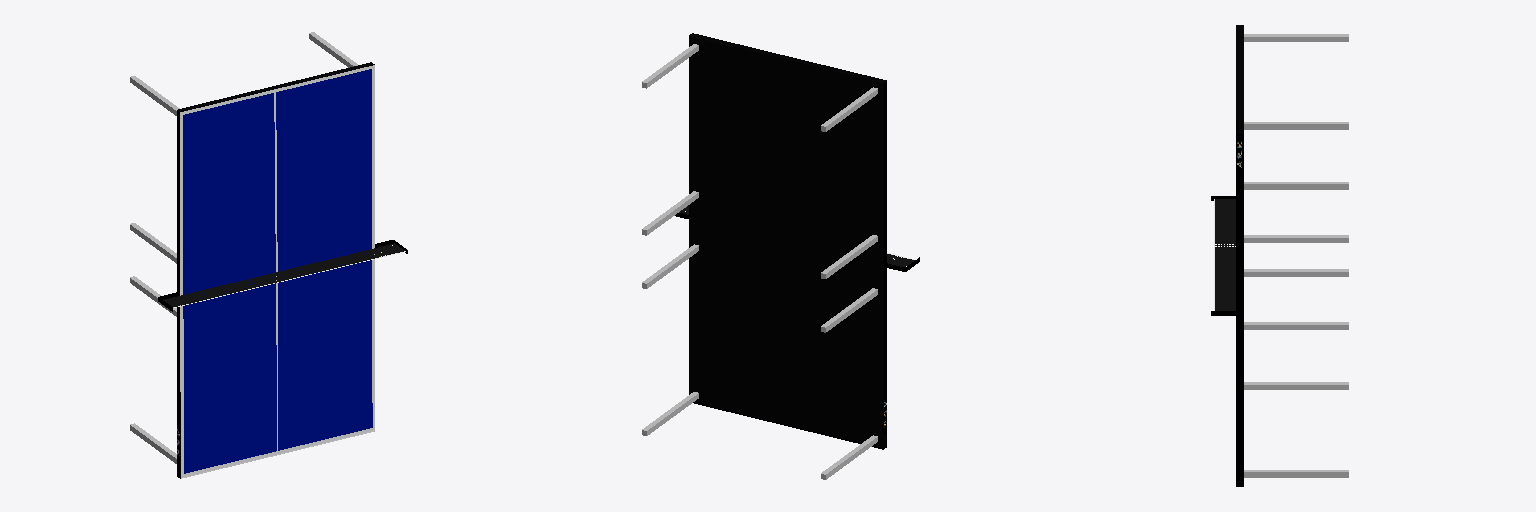
3 renders of one model, left to right at view 1: azimuth 30°, elevation 25°; view 2: azimuth 150°, elevation 25°; view 3: azimuth 270°, elevation 25°, orthographic.
Visible parts, largest first — view 1: textured_board_Cube.002, net_back_Plane.002, net_Plane.001; view 2: textured_board_Cube.002, leg.001_Cube.015, leg.008_Cube.022, leg.007_Cube.021, leg.004_Cube.018, leg.003_Cube.017, leg.002_Cube.016, leg.006_Cube.020, leg.005_Cube.019; view 3: textured_board_Cube.002, net_Plane.001, net_back_Plane.002, leg.004_Cube.018, leg.003_Cube.017, leg.001_Cube.015, leg.002_Cube.016, leg.008_Cube.022, leg.007_Cube.021, leg.006_Cube.020, leg.005_Cube.019.
Part boxes in pixels (bbox=[...]): textured_board_Cube.002: bbox=[177, 62, 374, 478]; net_back_Plane.002: bbox=[163, 243, 405, 307]; net_Plane.001: bbox=[164, 245, 403, 307]; textured_board_Cube.002: bbox=[689, 33, 886, 449]; leg.001_Cube.015: bbox=[821, 87, 877, 131]; leg.008_Cube.022: bbox=[821, 288, 877, 332]; leg.007_Cube.021: bbox=[642, 244, 698, 288]; leg.004_Cube.018: bbox=[821, 235, 877, 278]; leg.003_Cube.017: bbox=[642, 191, 698, 235]; leg.002_Cube.016: bbox=[642, 44, 698, 88]; leg.006_Cube.020: bbox=[642, 392, 698, 435]; leg.005_Cube.019: bbox=[821, 435, 877, 479]; textured_board_Cube.002: bbox=[1236, 25, 1243, 486]; net_Plane.001: bbox=[1214, 199, 1235, 310]; net_back_Plane.002: bbox=[1214, 199, 1235, 310]; leg.004_Cube.018: bbox=[1244, 182, 1348, 189]; leg.003_Cube.017: bbox=[1244, 269, 1348, 276]; leg.001_Cube.015: bbox=[1244, 34, 1348, 41]; leg.002_Cube.016: bbox=[1244, 122, 1348, 129]; leg.008_Cube.022: bbox=[1244, 235, 1348, 242]; leg.007_Cube.021: bbox=[1244, 322, 1348, 329]; leg.006_Cube.020: bbox=[1244, 470, 1348, 477]; leg.005_Cube.019: bbox=[1244, 382, 1348, 389].
Bounding box in the file's own units: 1.85 × 2.74 × 0.9299.
13 materials, 2 textured.